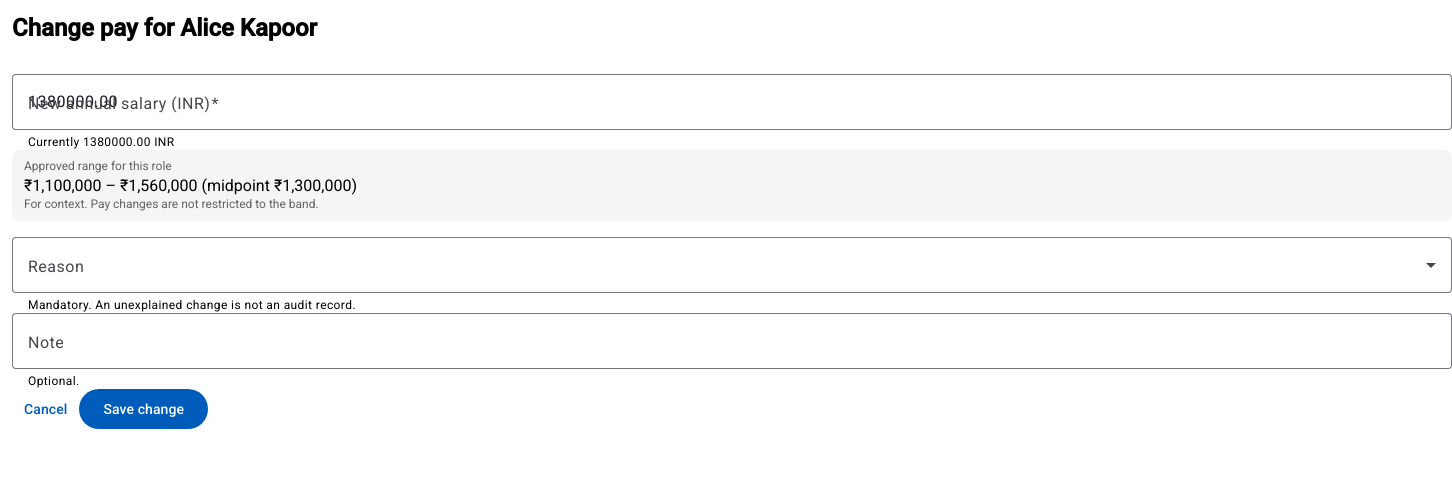
Test case: ChangeSalaryDialogComponent › shows the server's reason against the field it is about
Replace the text in the field named "amount" with "1500000": (732, 102) [28,90,1436,114]
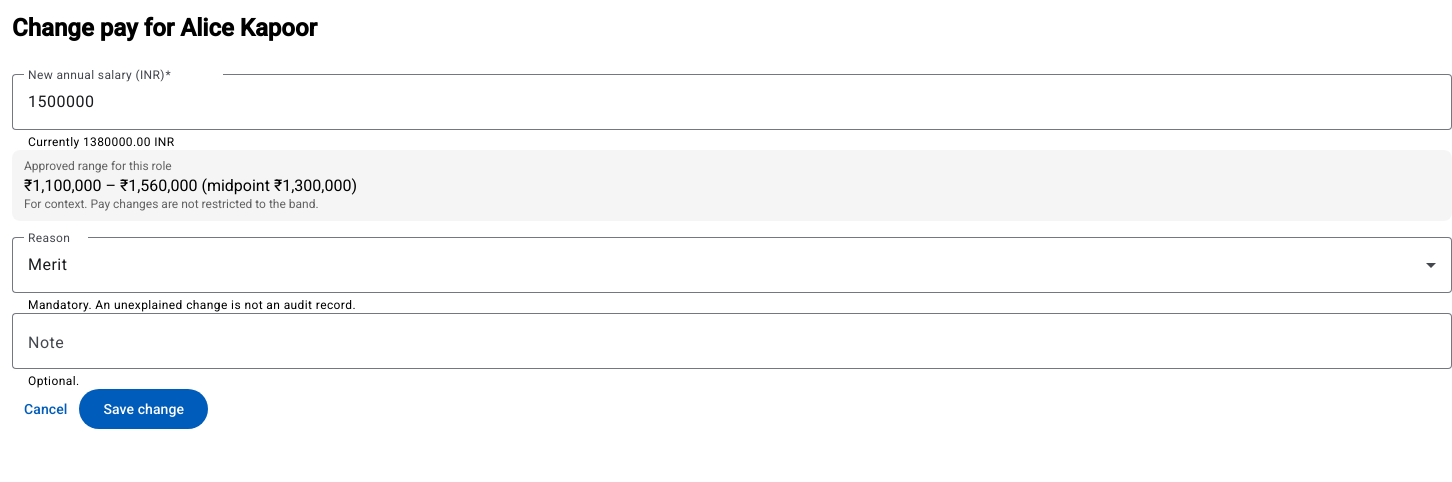
Click the button named "save": (144, 409) [79,389,208,429]
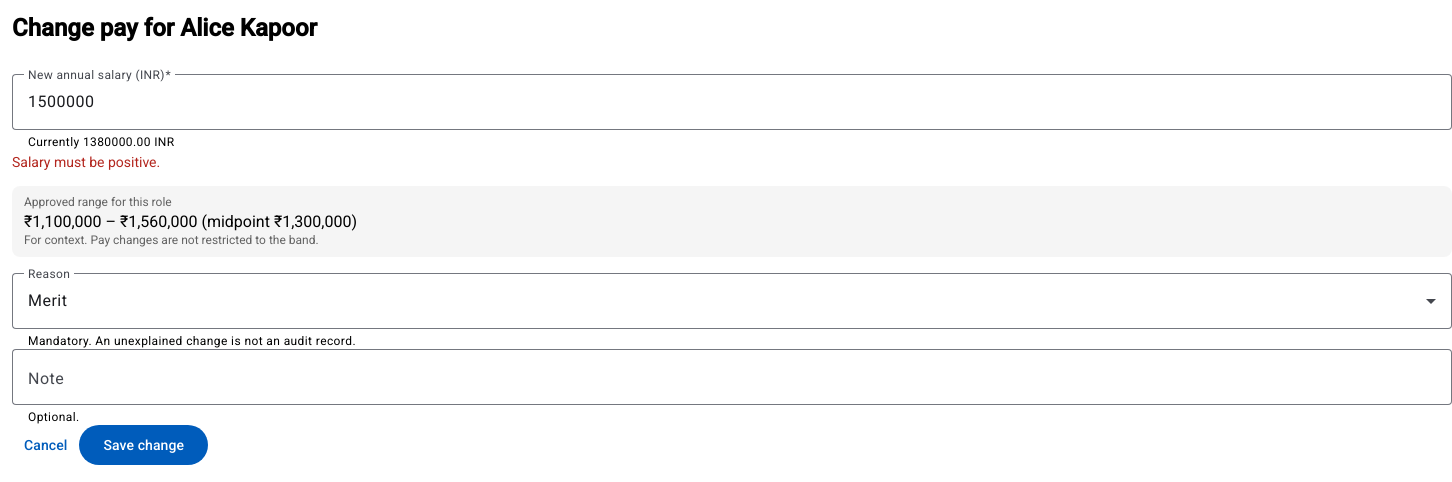
Expected: the message with id "amount-problem" shows "Salary must be positive", [12,154,160,170]
